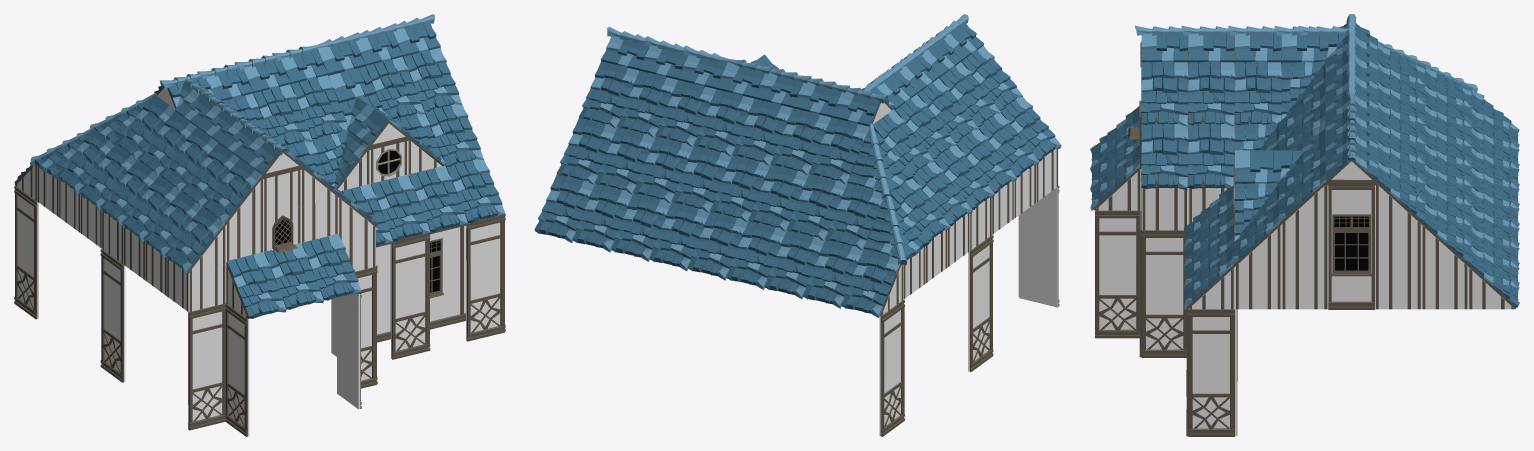
File: House_20_parts.fbx
The picture shows the model from 3 angles, left to right: view 1: azimuth 30°, elevation 25°; view 2: azimuth 150°, elevation 25°; view 3: azimuth 270°, elevation 25°; orthographic projection. The views are drawn at different scales.
Parts seen in each view (by area): view 1: WINDOW_03_2, WALL_04_7, WALL_04_8, WALL_04_10, WALL_04_12, WALL_04_11, WALL_04_13, WALL_04_3, ROOF_base_29, ROOF_base_36, ROOF_base_27, ROOF_base_37 (+60 smaller); view 2: WALL_04_10, WALL_04_13, WALL_04_12, ROOF_base_76, ROOF_base_67, ROOF_base_49, ROOF_base_58, ROOF_base_64, ROOF_base_52, ROOF_base_44, ROOF_base_55, ROOF_base_61 (+46 smaller); view 3: WALL_04_9, WINDOW_04_4, WALL_04_3, WALL_04_5, ROOF_base_30, ROOF_base_31, ROOF_base_32, ROOF_base_33, ROOF_base_34, ROOF_up_quad_21, ROOF_up_quad_22, ROOF_up_quad_25 (+74 smaller).
Part boxes in pixels (x1,y1,x2,y2): WINDOW_03_2: (376,225,465,342); WALL_04_7: (391,234,430,359); WALL_04_8: (466,216,504,341); WALL_04_10: (188,303,226,430); WALL_04_12: (100,249,125,382); WALL_04_11: (225,303,249,436); WALL_04_13: (14,185,38,319); WALL_04_3: (337,291,361,409); ROOF_base_29: (226,252,286,318); ROOF_base_36: (371,174,430,241); ROOF_base_27: (302,234,361,300); ROOF_base_37: (408,165,467,232); WALL_04_10: (1019,185,1059,307); WALL_04_13: (879,300,904,436); WALL_04_12: (968,235,993,371); ROOF_base_76: (841,249,901,317); ROOF_base_67: (803,239,863,308); ROOF_base_49: (573,183,633,252); ROOF_base_58: (688,211,748,280); ROOF_base_64: (764,230,825,299); ROOF_base_52: (611,192,671,261); ROOF_base_44: (534,174,594,242); ROOF_base_55: (649,202,710,270); ROOF_base_61: (726,221,786,289); WALL_04_9: (1188,309,1234,436); WINDOW_04_4: (1328,182,1374,309); WALL_04_3: (1095,210,1140,338); WALL_04_5: (1141,230,1186,357); ROOF_base_30: (1141,122,1188,190); ROOF_base_31: (1141,62,1188,126); ROOF_base_32: (1187,122,1234,188); ROOF_base_33: (1187,62,1234,126); ROOF_base_34: (1234,62,1281,125); ROOF_up_quad_21: (1281,224,1328,266); ROOF_up_quad_22: (1281,267,1328,309); ROOF_up_quad_25: (1421,267,1468,309).
Size of the model in its own units: 928 by 665 by 920.
